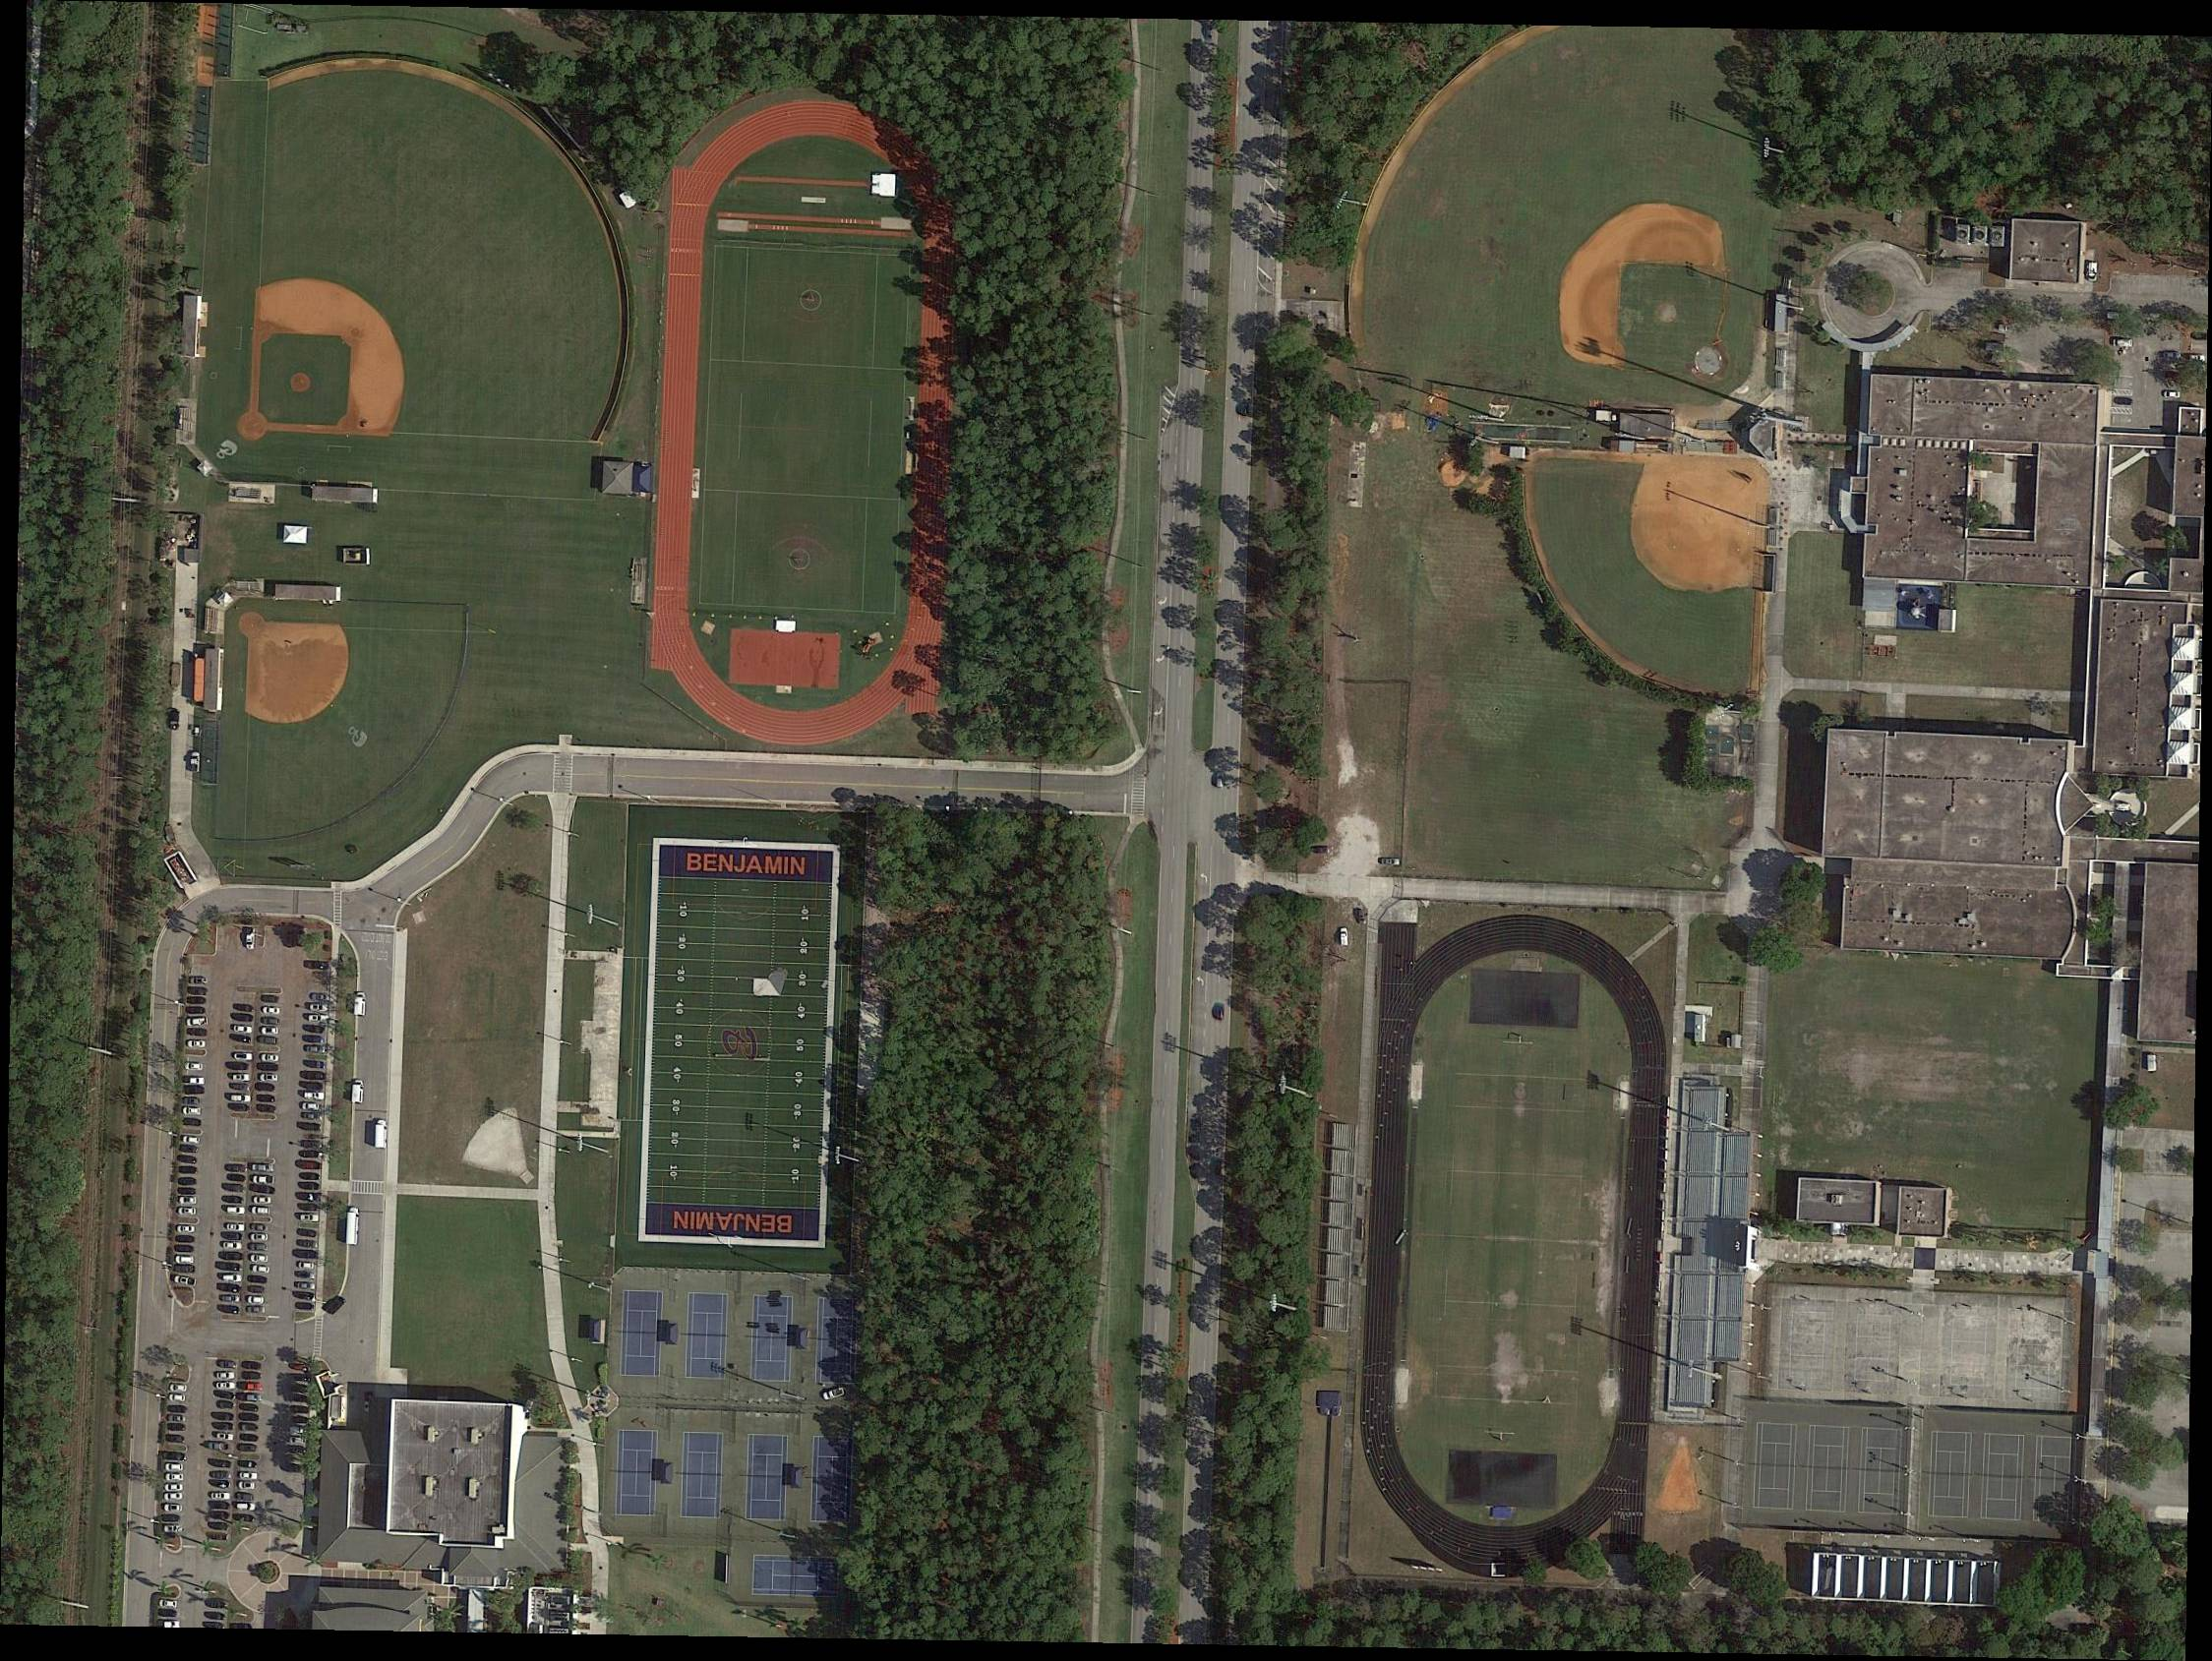baseball diamond: (1559, 198, 1732, 365), (252, 277, 408, 433), (1626, 480, 1743, 599), (249, 625, 352, 727)
ground track field: (646, 92, 967, 752), (1352, 913, 1675, 1565)
large vehicle: (373, 1119, 389, 1150), (348, 1207, 360, 1247), (352, 1079, 367, 1104), (354, 991, 366, 1019)
small vehicle: (207, 1596, 228, 1612), (161, 1502, 185, 1515), (162, 1459, 184, 1474), (244, 925, 256, 952), (259, 1051, 282, 1064), (204, 1609, 227, 1622), (202, 1620, 229, 1631), (185, 1016, 209, 1028), (301, 1025, 327, 1036), (260, 1024, 279, 1038), (162, 1472, 185, 1484), (160, 1482, 185, 1493), (260, 1016, 280, 1029), (233, 1002, 255, 1014), (232, 1051, 254, 1063), (263, 1004, 282, 1017), (231, 1023, 253, 1034), (188, 986, 209, 997), (308, 1003, 331, 1013), (187, 995, 208, 1006), (187, 976, 208, 986), (214, 1372, 237, 1382), (304, 1043, 327, 1053), (162, 1493, 183, 1503), (308, 1013, 327, 1023)
soccer ball field: (699, 246, 912, 613)
tennis court: (1858, 1429, 1903, 1516), (1754, 1422, 1798, 1511), (2033, 1436, 2077, 1523), (749, 1295, 794, 1382), (620, 1291, 664, 1378), (1806, 1425, 1850, 1512), (1981, 1433, 2024, 1520), (752, 1555, 840, 1598), (1929, 1432, 1973, 1517), (686, 1293, 729, 1380), (616, 1430, 659, 1515), (811, 1437, 854, 1522), (816, 1298, 859, 1384), (682, 1433, 724, 1517), (747, 1435, 788, 1520), (1950, 1319, 1988, 1388), (1855, 1315, 1891, 1382), (1789, 1313, 1825, 1379), (2016, 1323, 2051, 1390)
